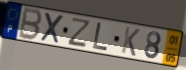8: (144, 31, 162, 60)
B: (17, 6, 44, 43)
K: (120, 26, 142, 58)
L: (91, 21, 109, 53)
X: (39, 11, 65, 46)
Z: (66, 17, 93, 49)
